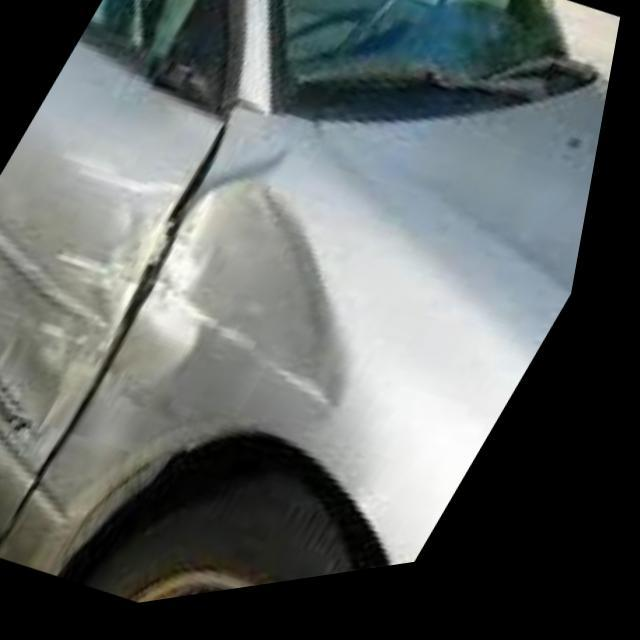dent: (0, 127, 381, 522)
